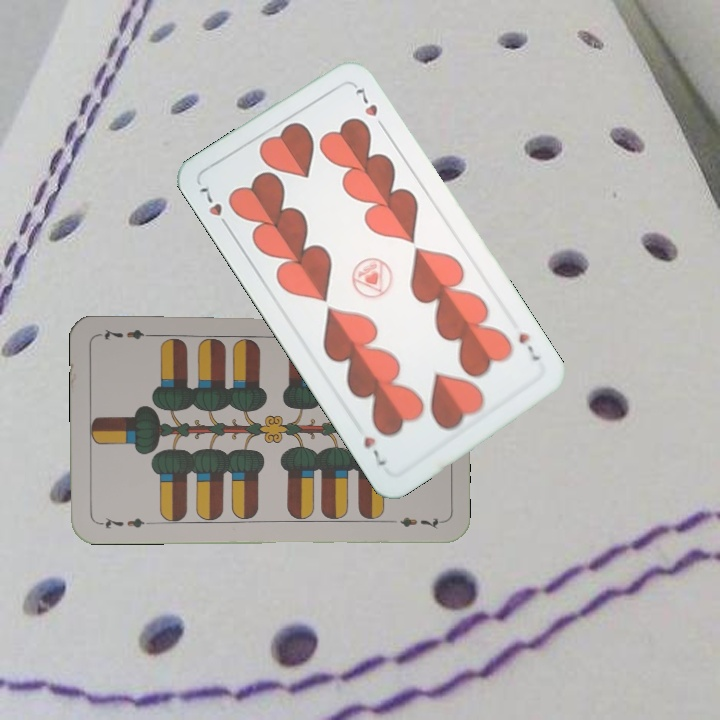E7: (95, 513, 154, 532)
H7: (195, 180, 233, 233), (514, 328, 543, 364)
